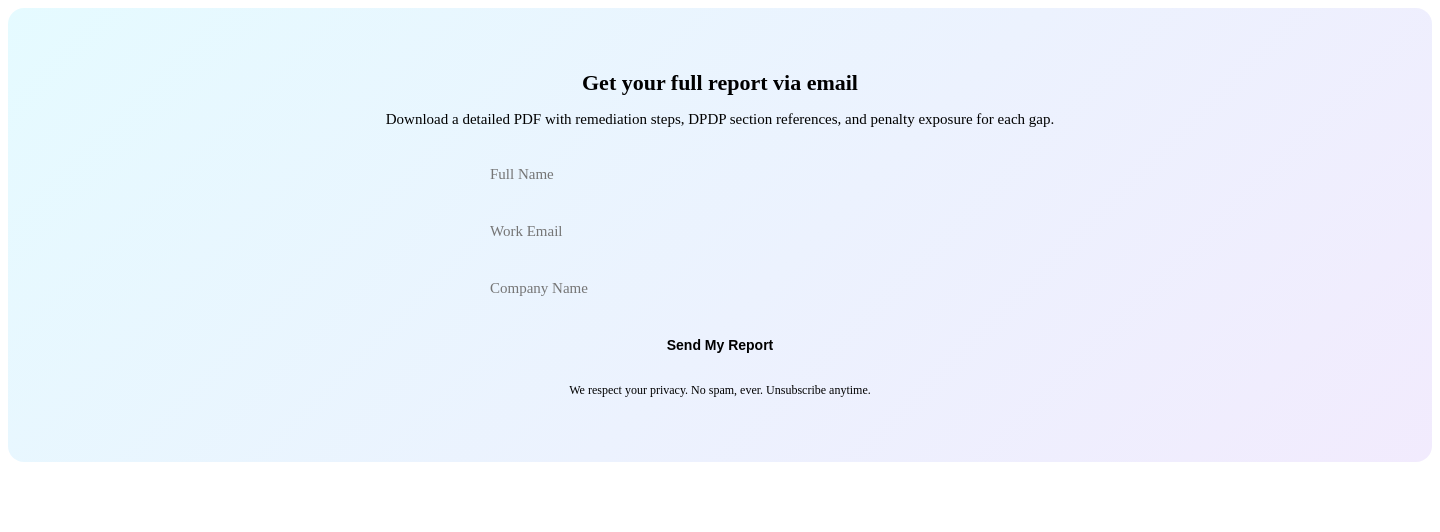
Test case: LeadCaptureForm › shows an inline, announced error instead of a blocking alert() when fields are empty
Click the button "Send My Report".
click(720, 345)  # box [639,323,801,367]
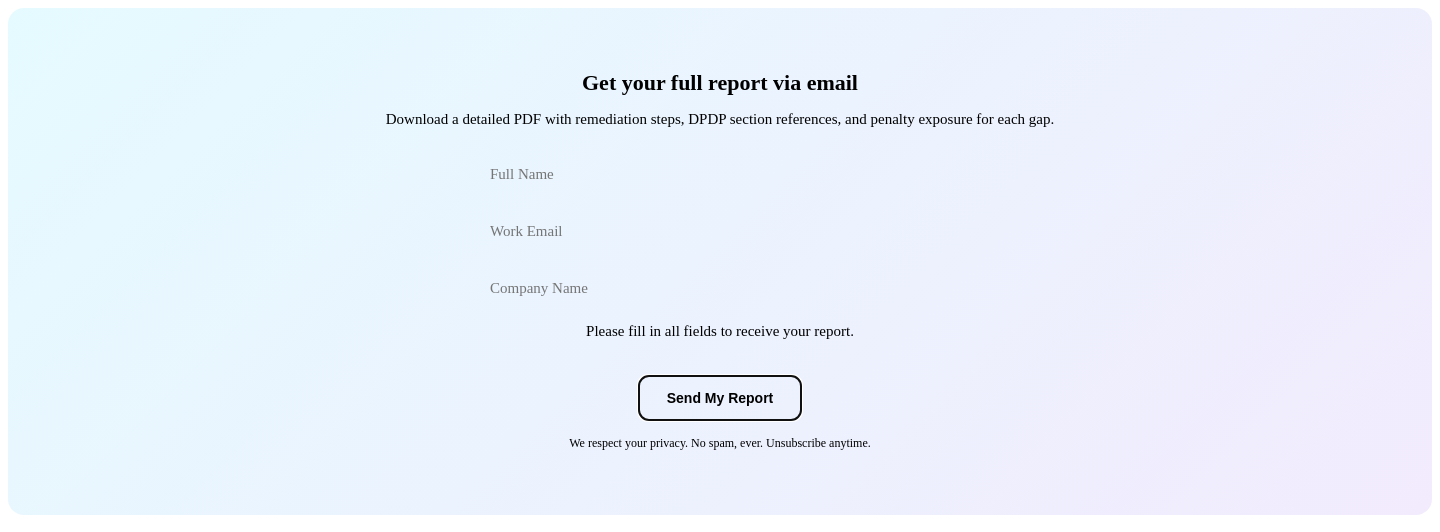
Expected: the message reads "Please fill in all fields to receive your report.", [586,323,854,339]
